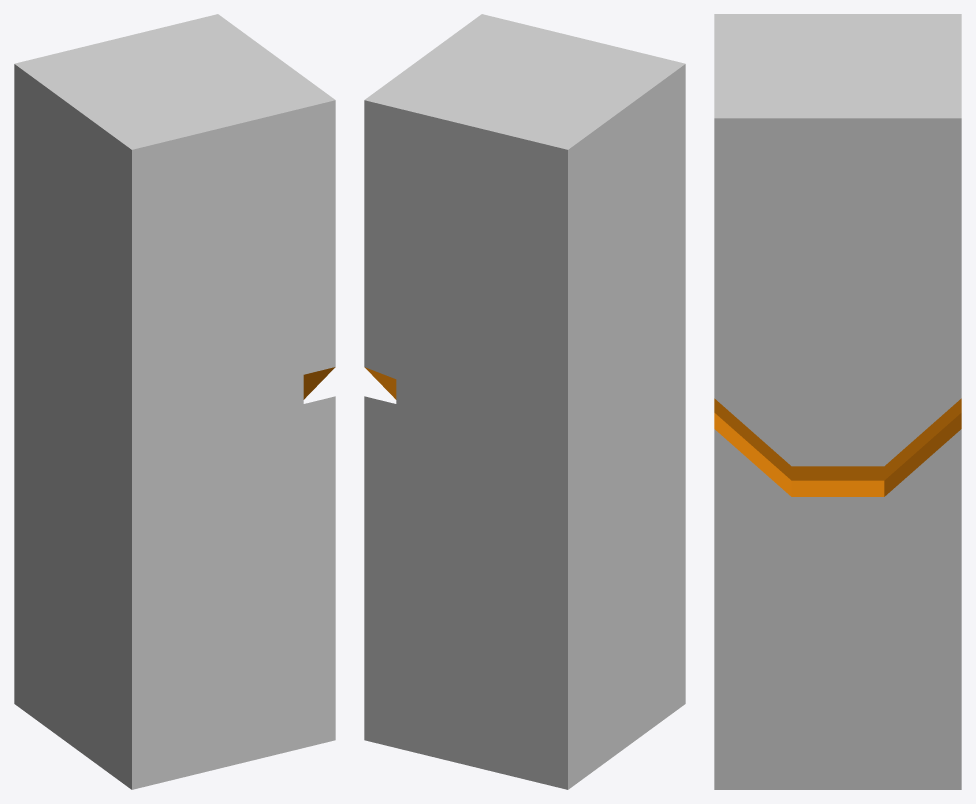
Rendered from Wall4.fbx.
3 renders of one model, left to right at view 1: azimuth 30°, elevation 25°; view 2: azimuth 150°, elevation 25°; view 3: azimuth 270°, elevation 25°, orthographic. The views are drawn at different scales.
Visible parts, largest first — view 1: Cube.003; view 2: Cube.003; view 3: Cube.003.
Boxes of the visible parts, x1,y1,x2,y2 form: Cube.003: (14,14,335,789); Cube.003: (364,14,685,789); Cube.003: (714,14,961,789).
Size of the model in its own units: 200 by 600 by 200.
